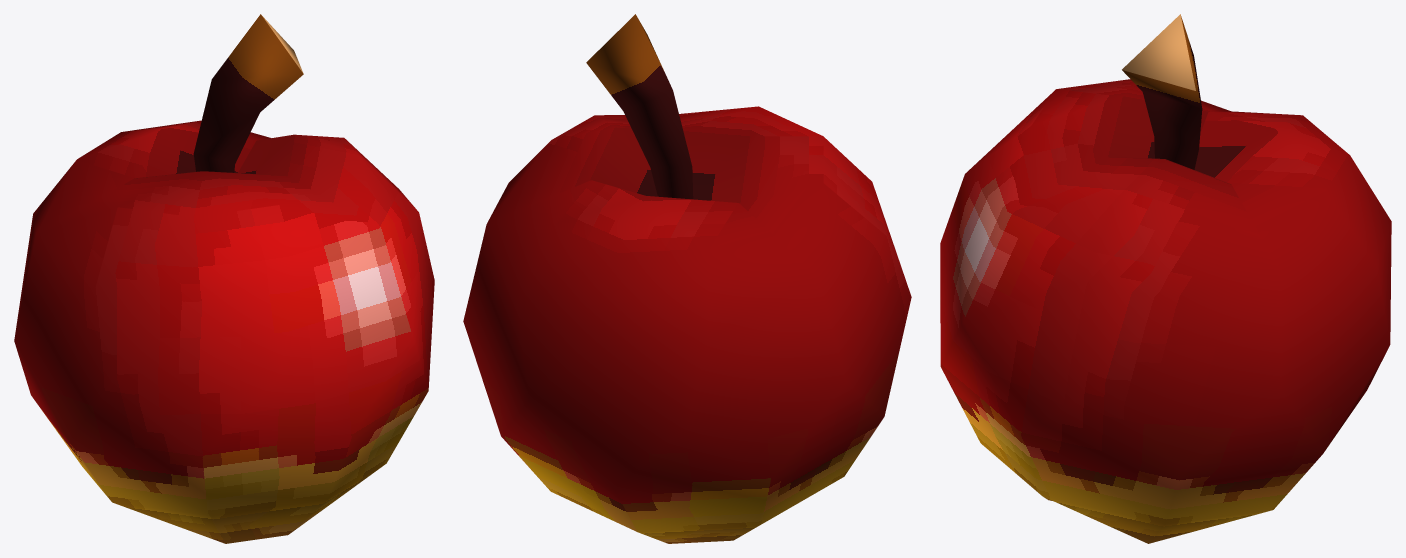
Rendered from apple.glb.
3 renders of one model, left to right at view 1: azimuth 30°, elevation 25°; view 2: azimuth 150°, elevation 25°; view 3: azimuth 270°, elevation 25°, orthographic. The views are drawn at different scales.
Visible parts, largest first — view 1: VisualMaterial0; view 2: VisualMaterial0; view 3: VisualMaterial0.
Boxes of the visible parts, left/top/right/bottom form: VisualMaterial0: left=14, top=14, right=434, bottom=543; VisualMaterial0: left=463, top=14, right=911, bottom=543; VisualMaterial0: left=940, top=14, right=1391, bottom=543.
Bounding box in the file's own units: 13.52 × 17.23 × 13.46.
Materials: 1 (1 with a texture image).
